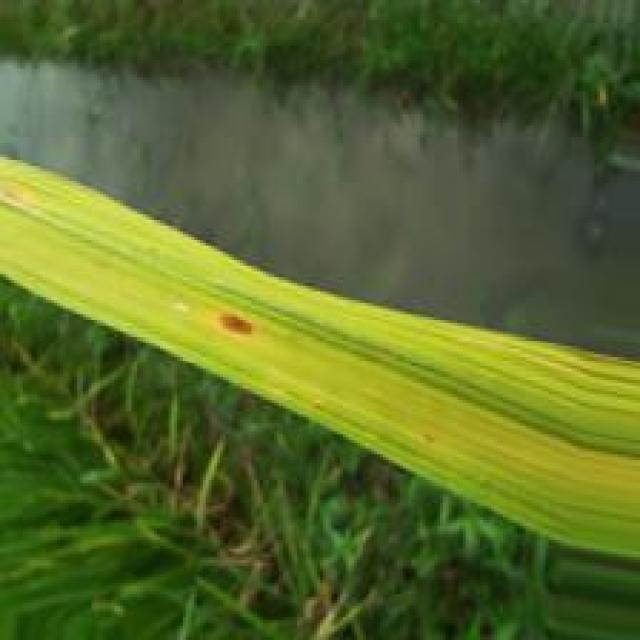Brown_Spot: (209, 308, 256, 342)
